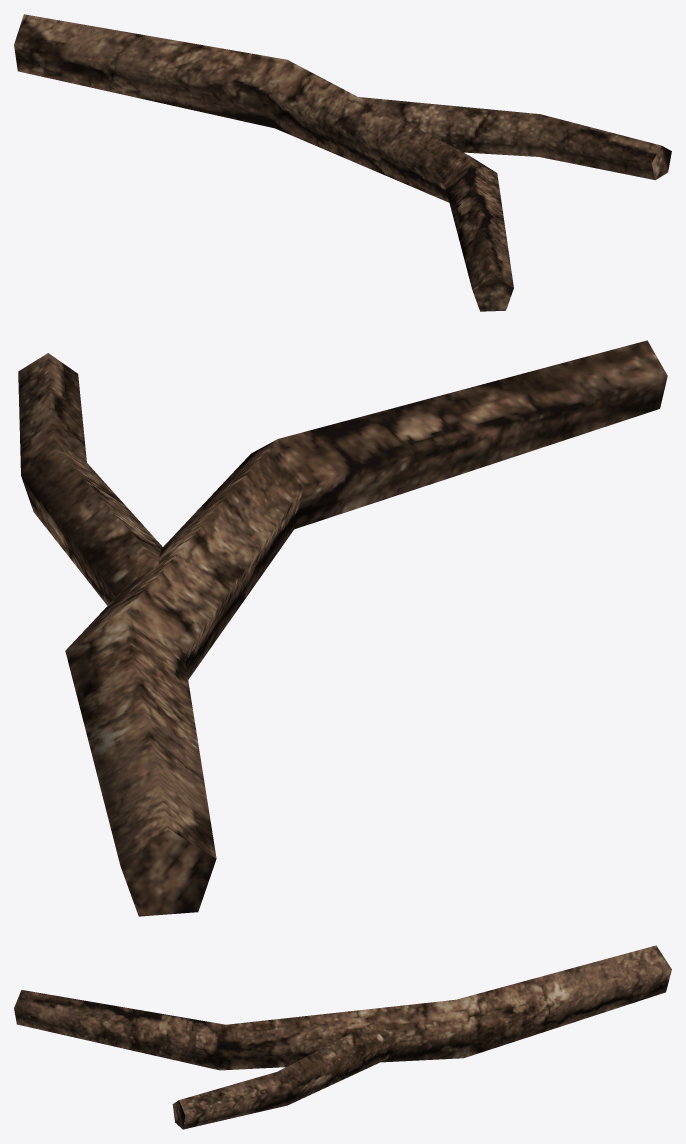
The model's file is SM_FOL_Stick_01_D.glb.
The picture shows the model from 3 angles, top to bottom: view 1: azimuth 30°, elevation 25°; view 2: azimuth 150°, elevation 25°; view 3: azimuth 270°, elevation 25°; orthographic projection. The views are drawn at different scales.
Visible parts, largest first — view 1: SM_FOL_Stick_01_D; view 2: SM_FOL_Stick_01_D; view 3: SM_FOL_Stick_01_D.
Boxes of the visible parts, x1,y1,x2,y2 form: SM_FOL_Stick_01_D: [14, 14, 671, 311]; SM_FOL_Stick_01_D: [18, 340, 667, 916]; SM_FOL_Stick_01_D: [14, 945, 671, 1129].
Size of the model in its own units: 0.3606 by 0.0543 by 0.6288.
1 material, 1 textured.
